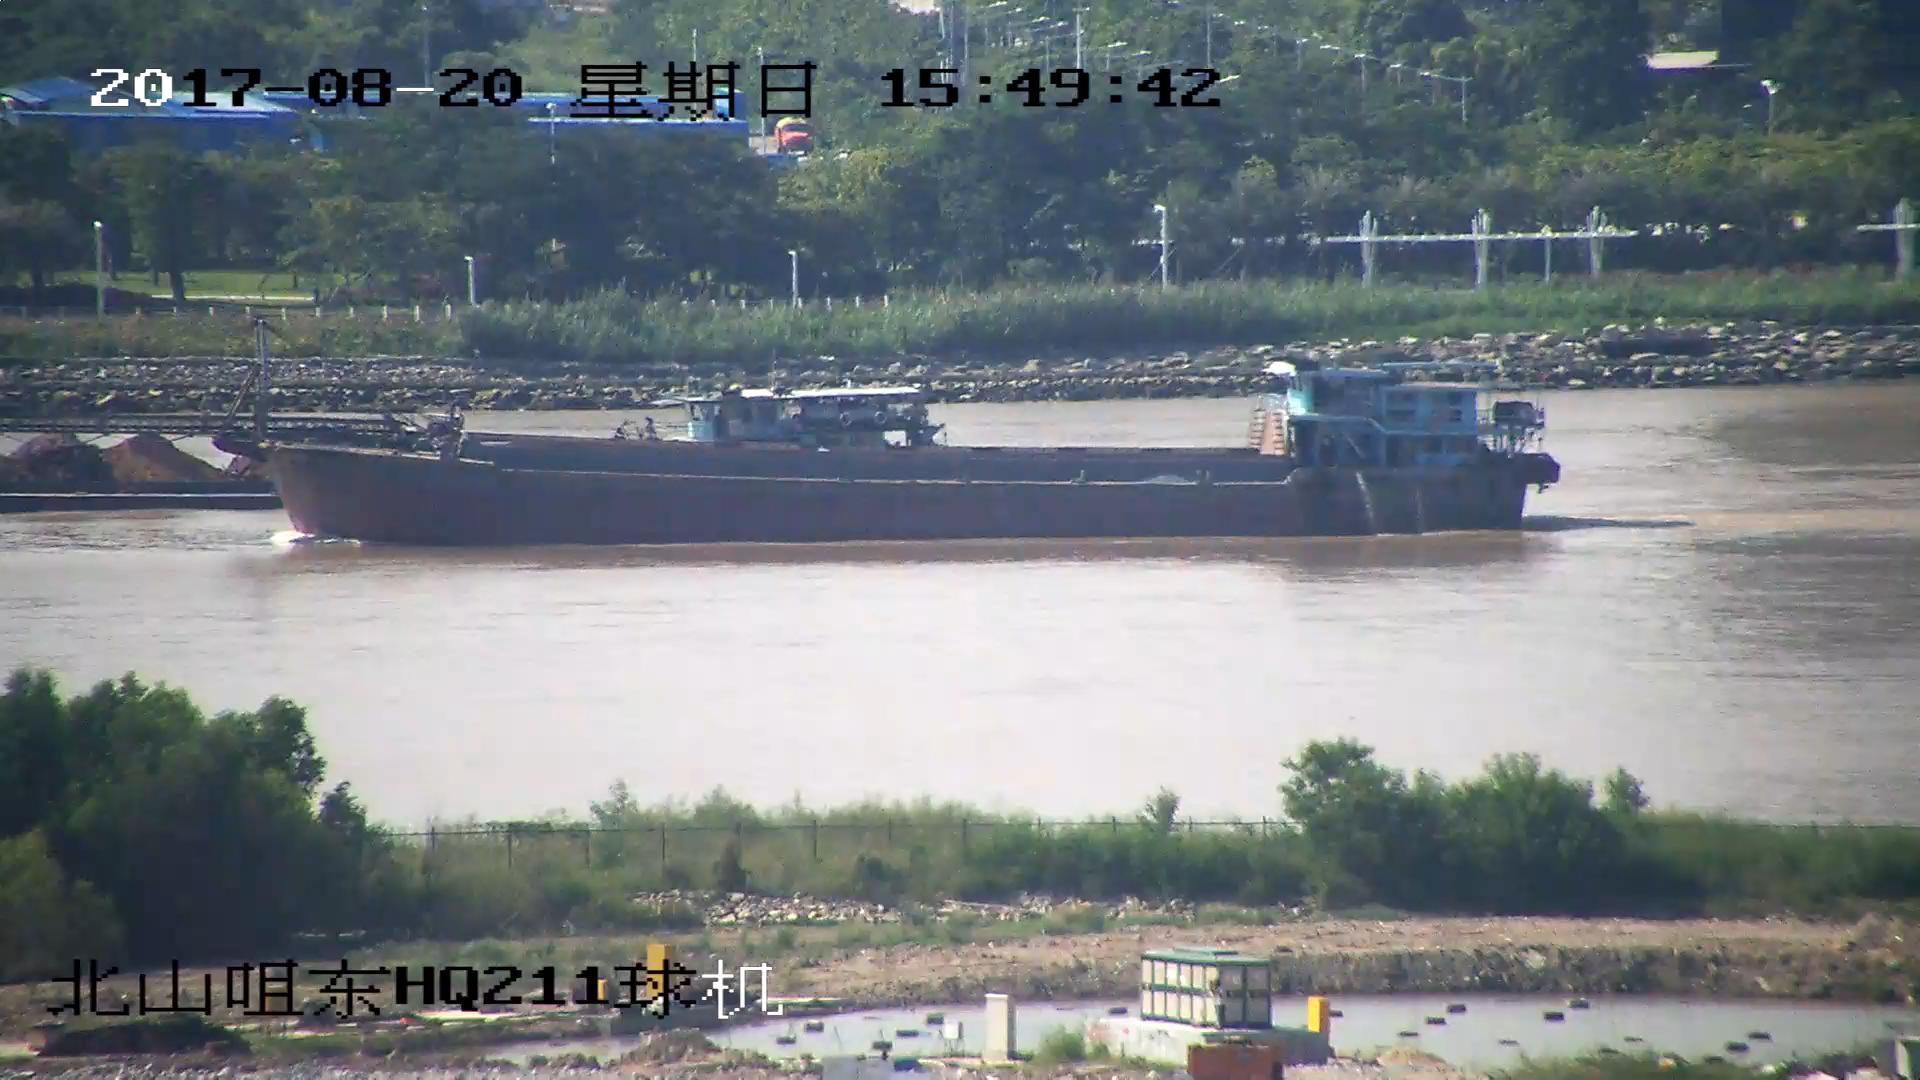bulk cargo carrier: (1, 346, 1540, 551)
ore carrier: (1, 380, 936, 508)
